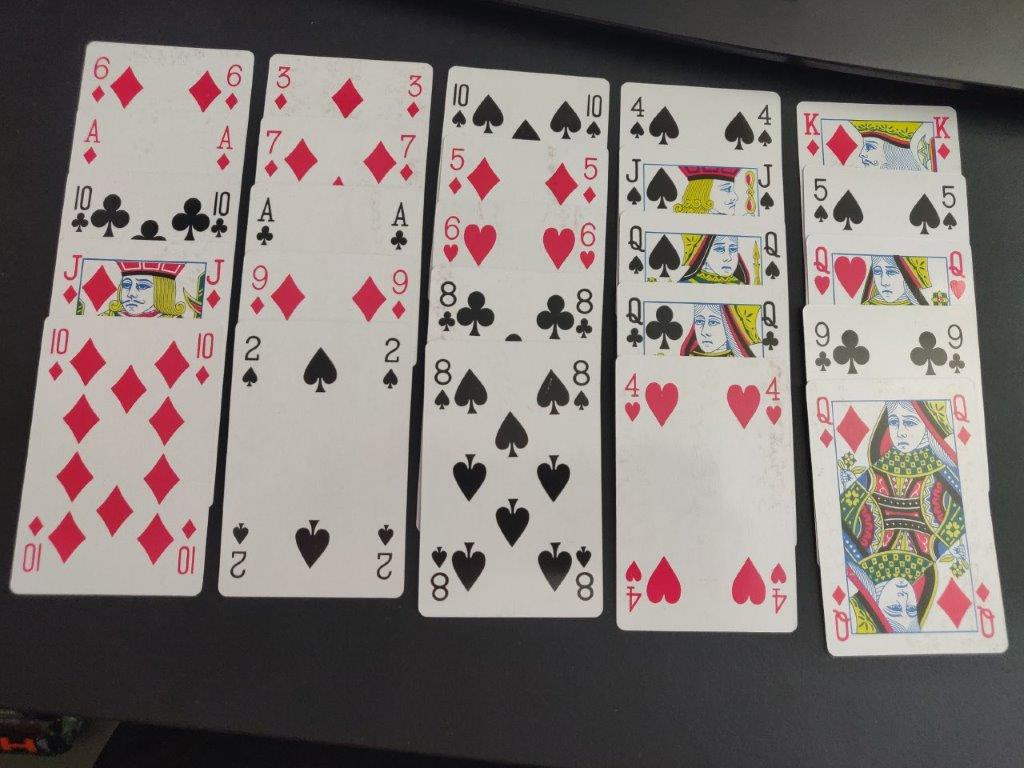10C: (70, 180, 95, 235), (209, 189, 231, 243)
10D: (41, 325, 71, 386), (191, 329, 216, 387)
10S: (447, 77, 472, 131), (583, 87, 605, 140)
2S: (236, 331, 264, 393), (379, 335, 403, 391)
3D: (271, 62, 292, 117), (402, 72, 424, 120)
4H: (620, 370, 645, 425), (762, 374, 786, 431)
4S: (624, 93, 648, 142), (754, 100, 774, 150)
5D: (443, 143, 469, 197), (578, 151, 601, 209)
5S: (937, 181, 961, 235), (809, 172, 831, 225)
6D: (87, 51, 113, 106), (220, 61, 245, 114)
6H: (576, 217, 602, 272), (439, 209, 464, 265)
7D: (394, 130, 418, 185), (261, 127, 283, 181)
8C: (433, 280, 459, 336), (573, 282, 595, 344)
8S: (569, 357, 594, 416), (431, 353, 455, 414)
9C: (943, 320, 970, 380), (809, 318, 836, 374)
9D: (388, 266, 414, 323), (246, 261, 269, 317)
AC: (251, 193, 280, 251), (384, 196, 411, 255)
AD: (210, 120, 235, 172), (79, 115, 102, 170)
JD: (57, 252, 84, 306), (204, 254, 224, 313)
JS: (620, 152, 646, 209), (754, 159, 779, 213)
KD: (929, 110, 956, 166), (799, 106, 824, 157)
QC: (754, 297, 784, 357), (623, 294, 648, 354)
QD: (811, 392, 840, 451), (946, 391, 974, 450)
QH: (808, 243, 832, 304), (944, 248, 970, 302)
QS: (624, 222, 649, 283), (760, 227, 783, 284)
